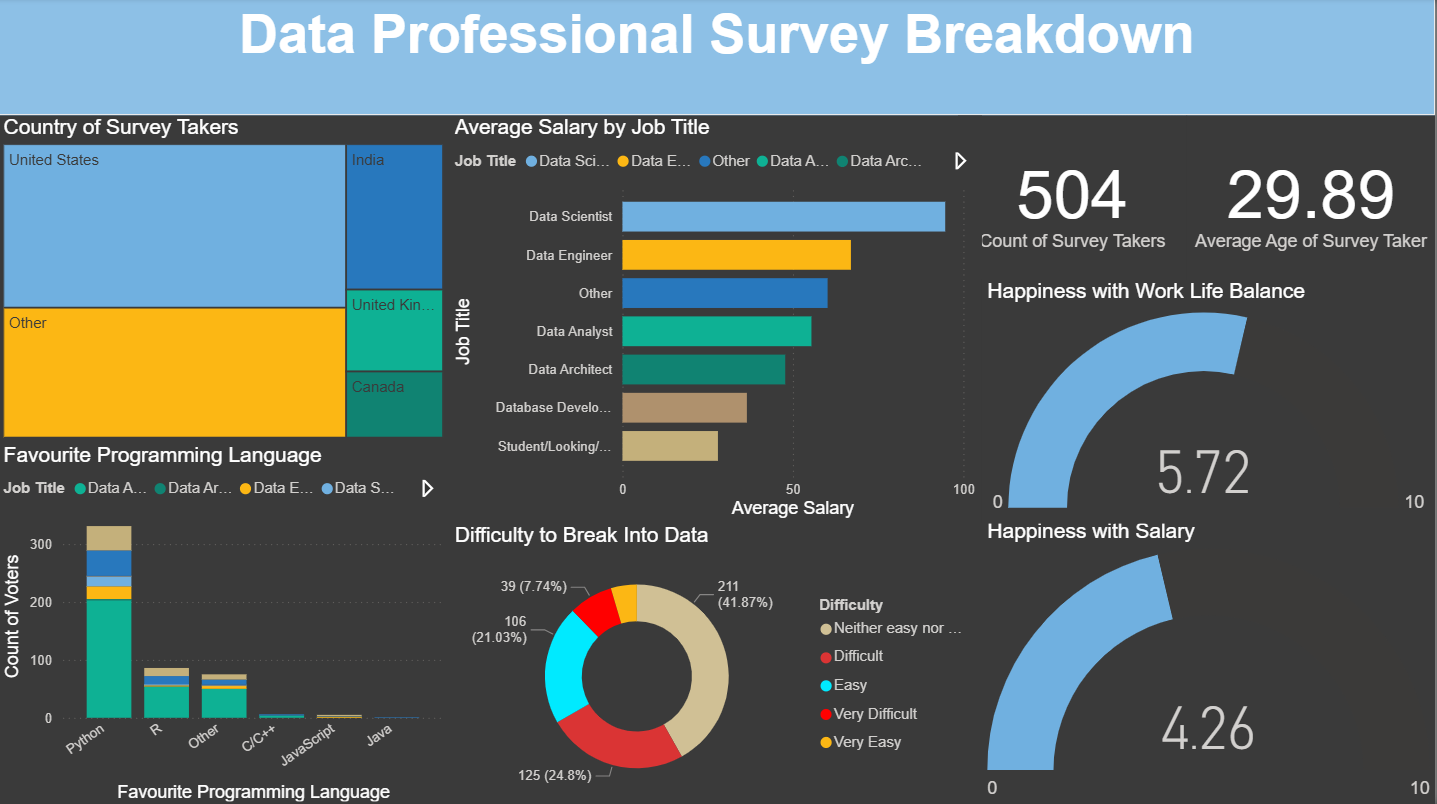

This screenshot's page, from the dashboard's own definition file:
{"tool":"powerbi","page":{"name":"Page 1","canvas":[1280,720],"ordinal":0},"visuals":[{"type":"textbox","box":[9.5,0,1270.8,104.1],"z":0},{"type":"card","fields":{"Values":["CountNonNull(Data Professional Survey.Unique ID)"]},"box":[854.4,104.1,204.1,148.7],"z":1000},{"type":"card","fields":{"Values":["Avg(Data Professional Survey.Q10 - Current Age)"]},"box":[1058.6,104.1,221.7,148.7],"z":2000},{"type":"barChart","title":"Average Salary by Job Title","fields":{"Category":["Data Professional Survey.Q1 - Which Title Best Fits your Current Role?.1"],"Y":["Avg(Data Professional Survey.Average Salary)"],"Series":["Data Professional Survey.Q1 - Which Title Best Fits your Current Role?.1"]},"box":[401.5,104.1,452.9,351.5],"z":3000},{"type":"columnChart","title":"Favourite Programming Language","fields":{"Category":["Data Professional Survey.Q5 - Favorite Programming Language.1"],"Y":["CountNonNull(Data Professional Survey.Unique ID)"],"Series":["Data Professional Survey.Q1 - Which Title Best Fits your Current Role?.1"]},"box":[0,396.1,401.5,324.5],"z":4000},{"type":"treemap","title":"Country of Survey Takers","fields":{"Group":["Data Professional Survey.Q11 - Which Country do you live in?.1"],"Values":["CountNonNull(Data Professional Survey.Q11 - Which Country do you live in?.1)"]},"box":[0,104.1,401.5,292],"z":5000},{"type":"gauge","title":"Happiness with Salary","fields":{"Y":["Avg(Data Professional Survey.Q6 - How Happy are you in your Current Position with the following? (Salary))"],"MinValue":["Min(Data Professional Survey.Q6 - How Happy are you in your Current Position with the following? (Salary))"],"MaxValue":["Max(Data Professional Survey.Q6 - How Happy are you in your Current Position with the following? (Salary))"]},"box":[900.4,463.7,369.1,256.9],"z":6000},{"type":"gauge","title":"Happiness with Work Life Balance","fields":{"Y":["Avg(Data Professional Survey.Q6 - How Happy are you in your Current Position with the following? (Work/Life Balance))"],"MinValue":["Min(Data Professional Survey.Q6 - How Happy are you in your Current Position with the following? (Work/Life Balance))"],"MaxValue":["Max(Data Professional Survey.Q6 - How Happy are you in your Current Position with the following? (Work/Life Balance))1"]},"box":[876,250.1,393.4,217.7],"z":7000},{"type":"donutChart","title":"Difficulty to Break Into Data","fields":{"Category":["Data Professional Survey.Q7 - How difficult was it for you to break into Data?"],"Y":["CountNonNull(Data Professional Survey.Q7 - How difficult was it for you to break into Data?)"]},"box":[401.5,467.8,452.9,242],"z":8000}]}

Visuals, with their boxes in screenshot pixels (x1, y1, x2, y2), scaled from the page's 1280x720 canvas onto the 1437x804 screenshot:
textbox: <region>11, 0, 1436, 116</region>
card - CountNonNull(Data Professional Survey.Unique ID): <region>959, 116, 1188, 282</region>
card - Avg(Data Professional Survey.Q10 - Current Age): <region>1188, 116, 1436, 282</region>
"Average Salary by Job Title" barChart: <region>451, 116, 959, 509</region>
"Favourite Programming Language" columnChart: <region>0, 442, 451, 803</region>
"Country of Survey Takers" treemap: <region>0, 116, 451, 442</region>
"Happiness with Salary" gauge: <region>1011, 518, 1425, 803</region>
"Happiness with Work Life Balance" gauge: <region>983, 279, 1425, 522</region>
"Difficulty to Break Into Data" donutChart: <region>451, 522, 959, 793</region>
